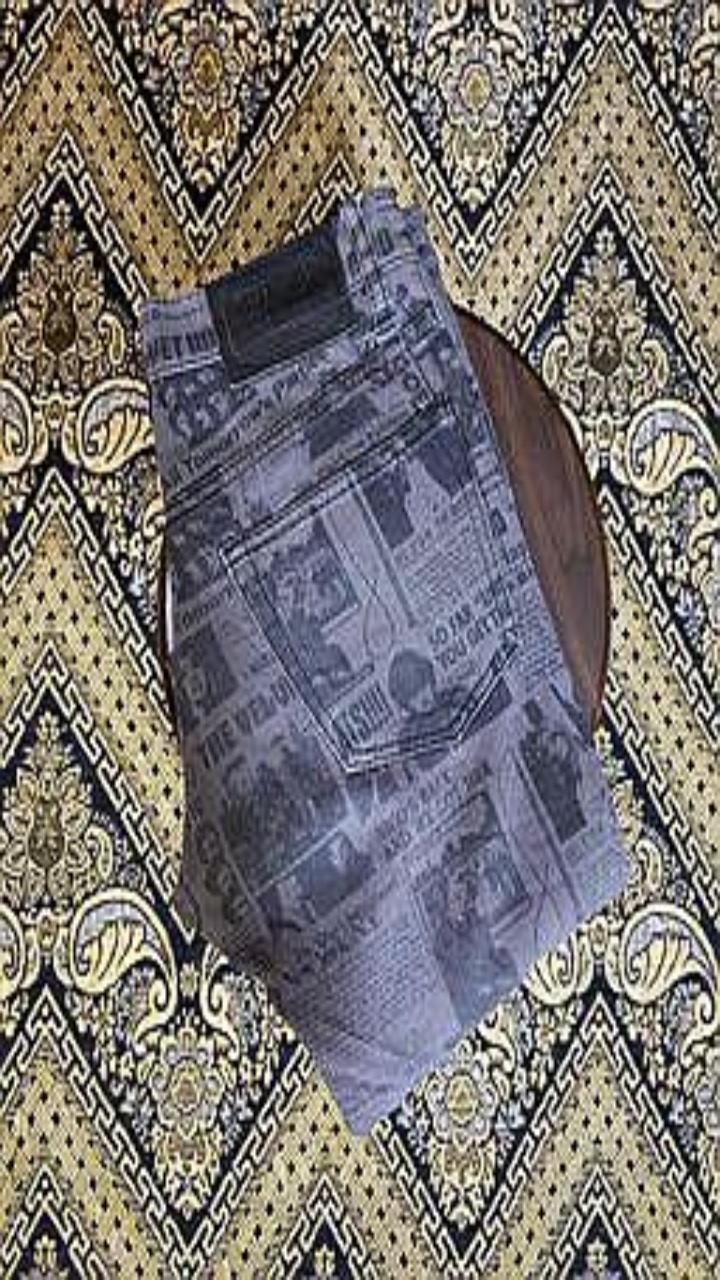Shorts: (142, 187, 628, 1132)
